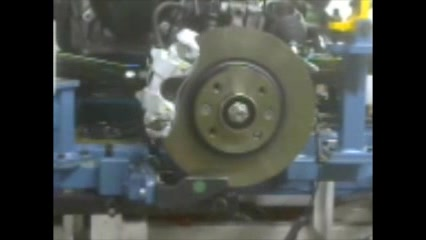DD2: (201, 24, 317, 186)
P2: (132, 24, 201, 146)
